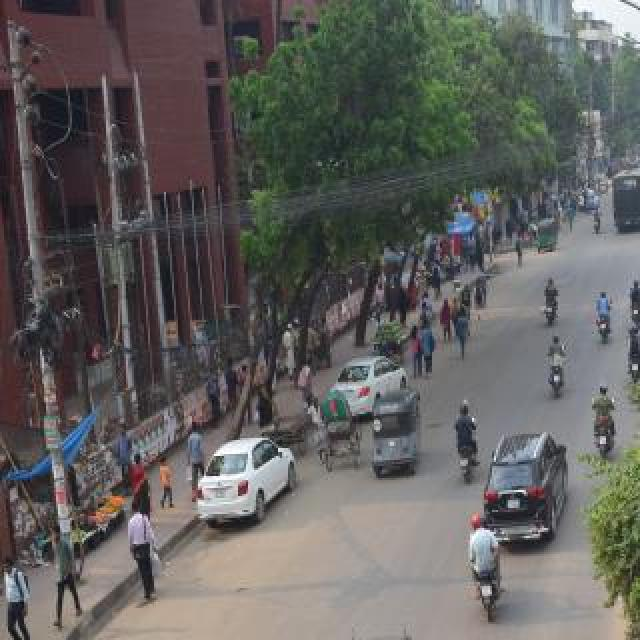bus: (602, 152, 640, 250)
car: (472, 381, 588, 585), (284, 327, 432, 477), (186, 429, 306, 595)
motorbike: (444, 501, 524, 619), (437, 369, 491, 487), (578, 362, 640, 460), (522, 247, 572, 329), (577, 277, 615, 383), (606, 304, 640, 394), (534, 324, 582, 386), (589, 194, 623, 264), (608, 258, 640, 312)
